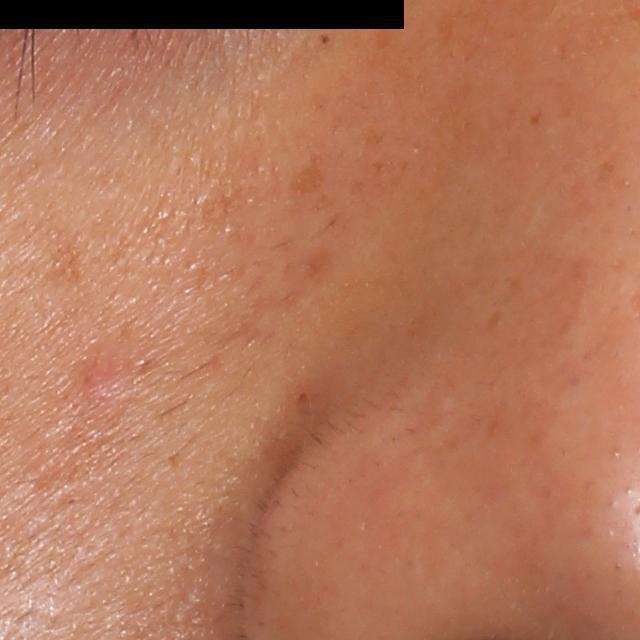papule: (74, 358, 128, 411)
